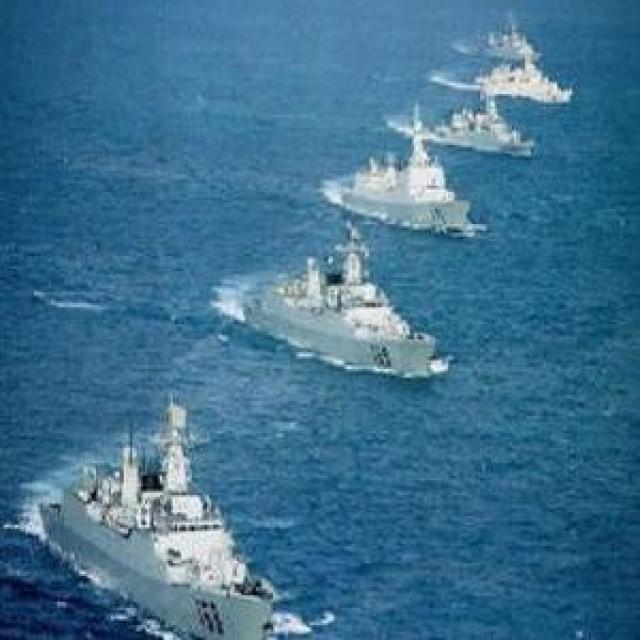navalvessels: (23, 400, 347, 640), (227, 231, 439, 383), (328, 114, 476, 234), (415, 95, 529, 174), (460, 52, 572, 108), (467, 16, 535, 54)
